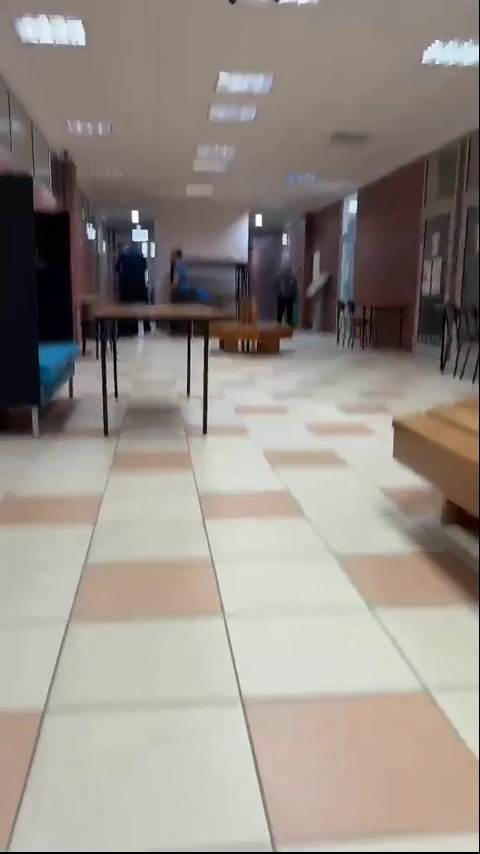no vest: (107, 232, 153, 303), (168, 246, 218, 301), (268, 253, 301, 328)
